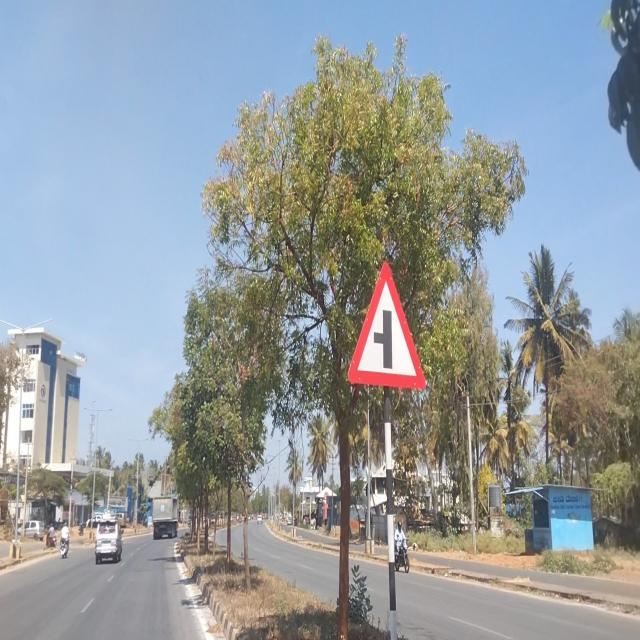bien_cam: (347, 255, 427, 394)
